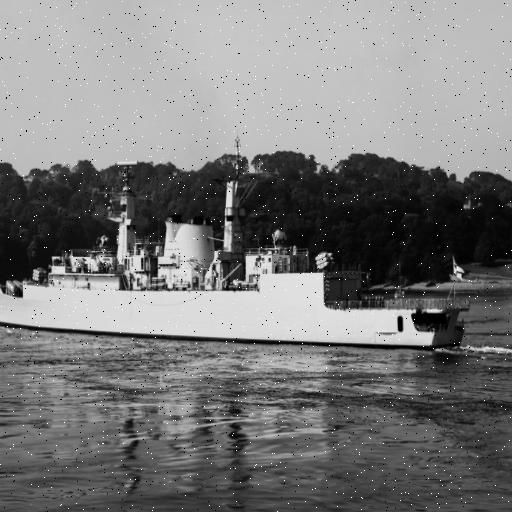Fragata: (1, 133, 469, 355)
